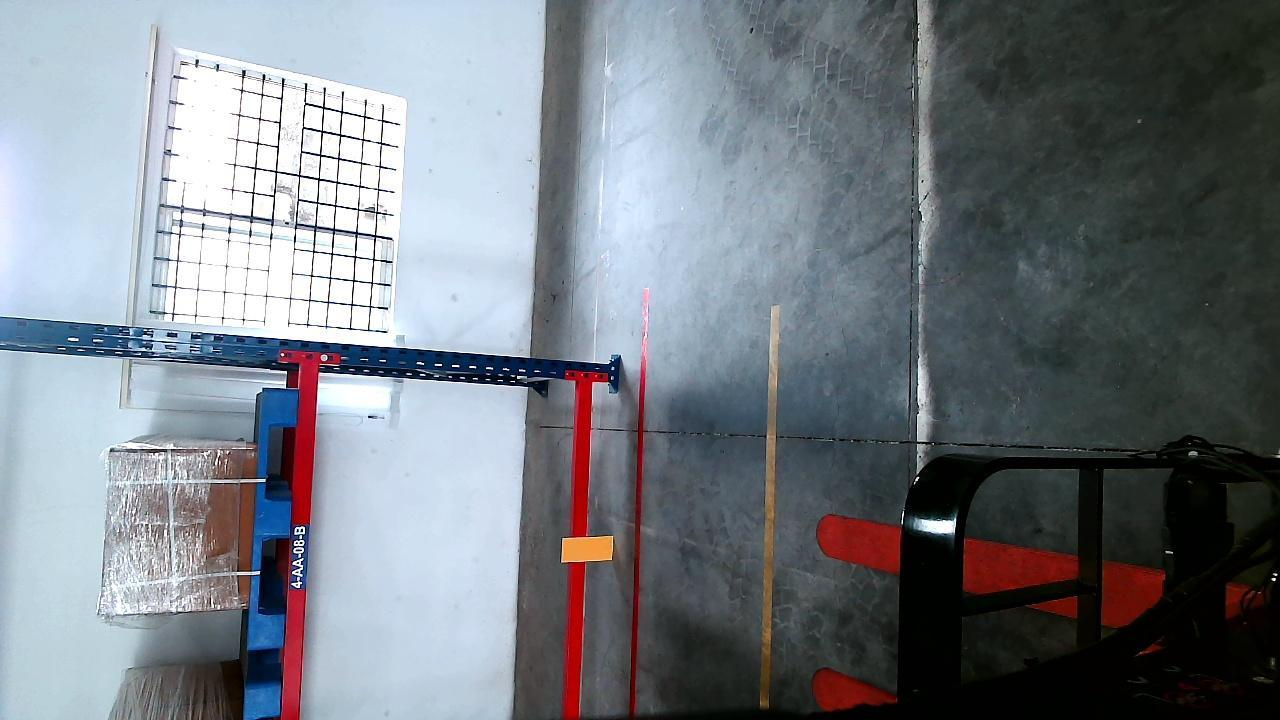red_line: (628, 286, 652, 716)
yellow_line: (759, 305, 781, 698)
